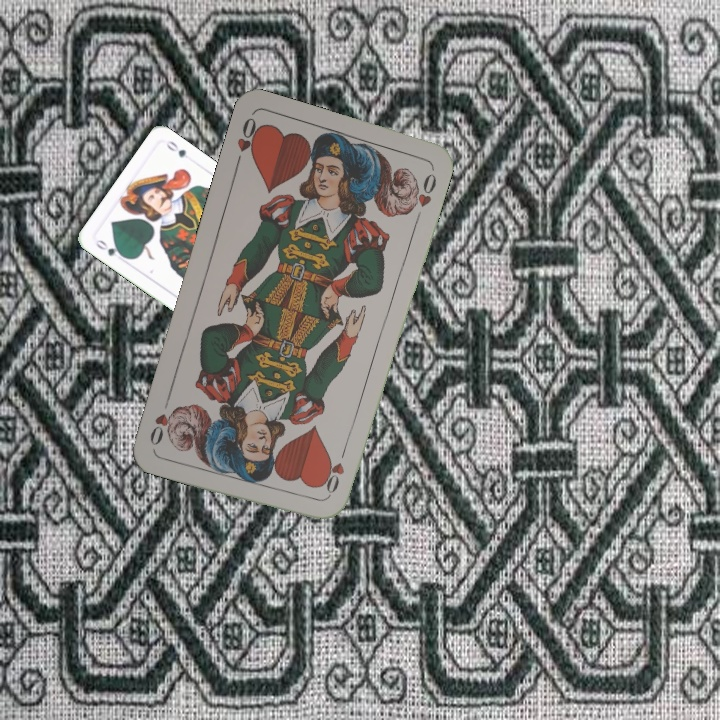GO: (91, 235, 129, 261)
HO: (231, 113, 264, 170), (321, 443, 349, 501)
